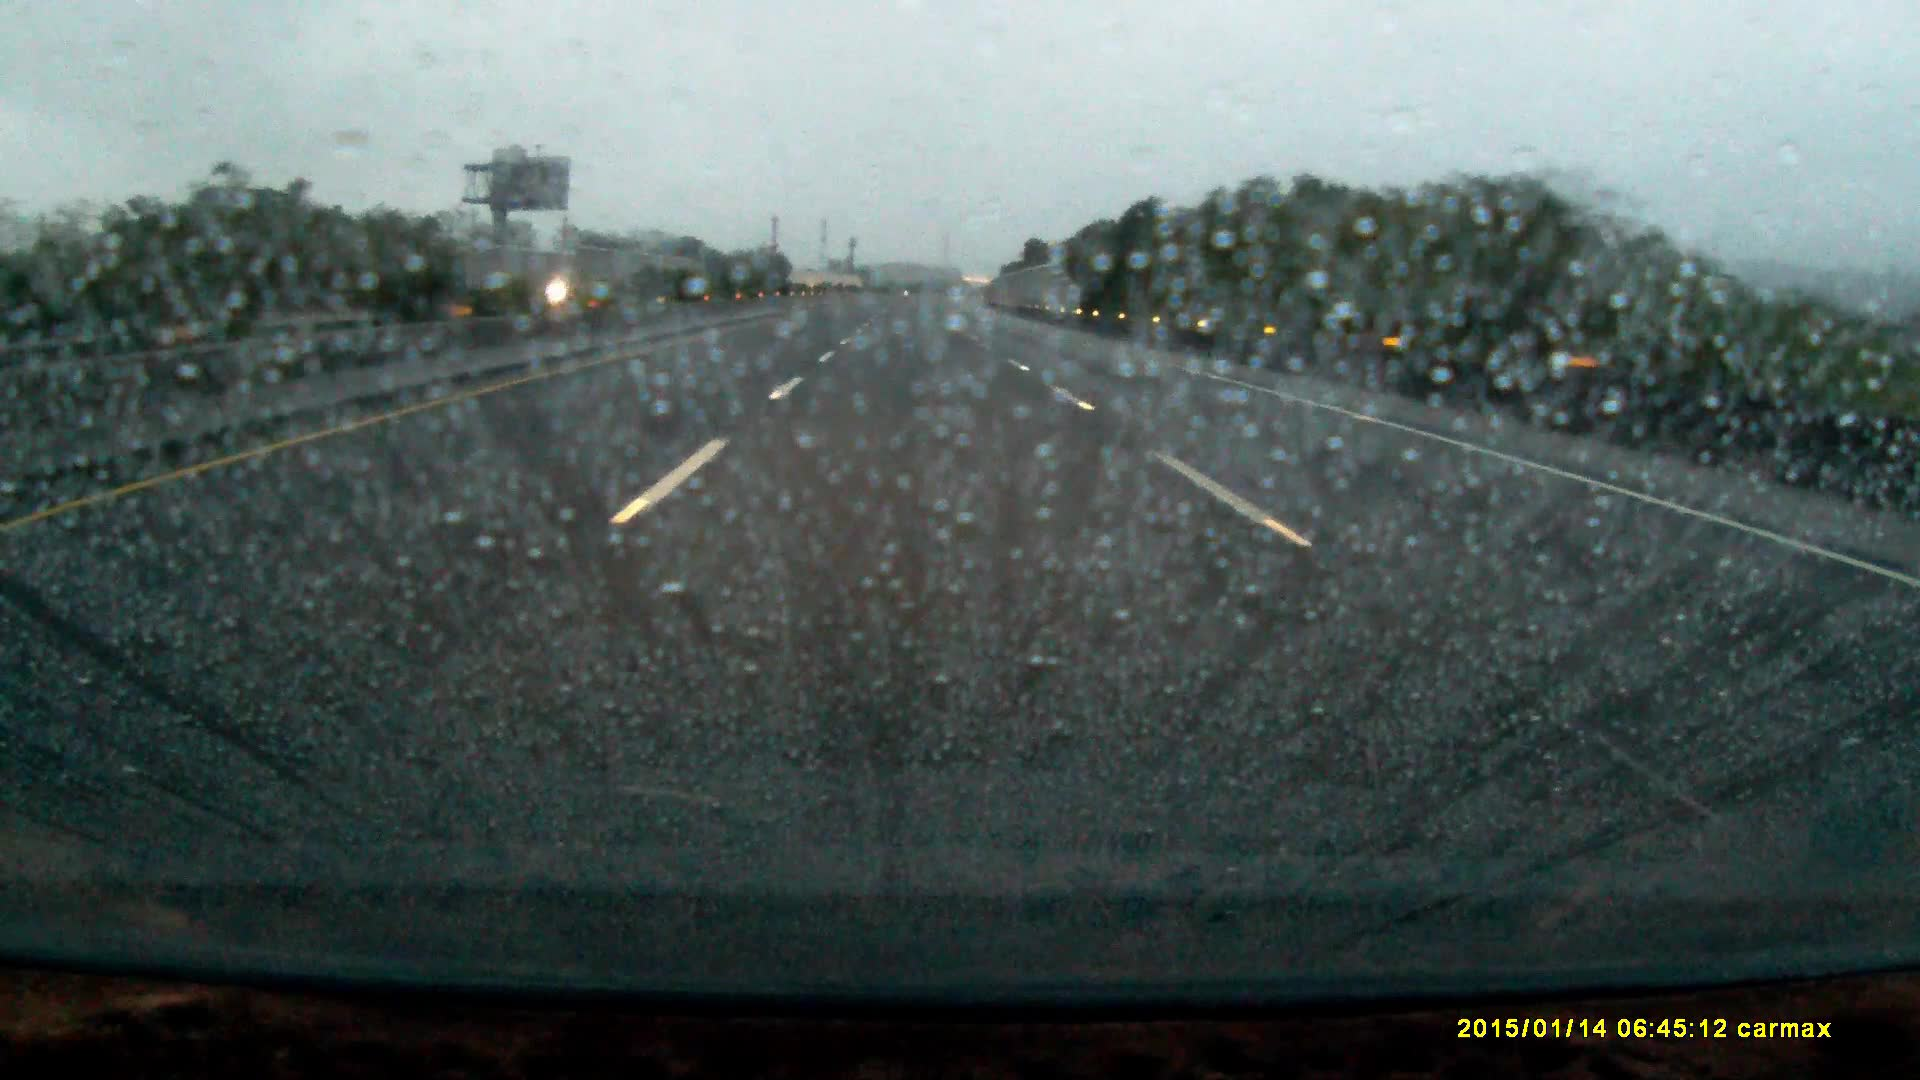vehicle: (534, 270, 607, 306)
